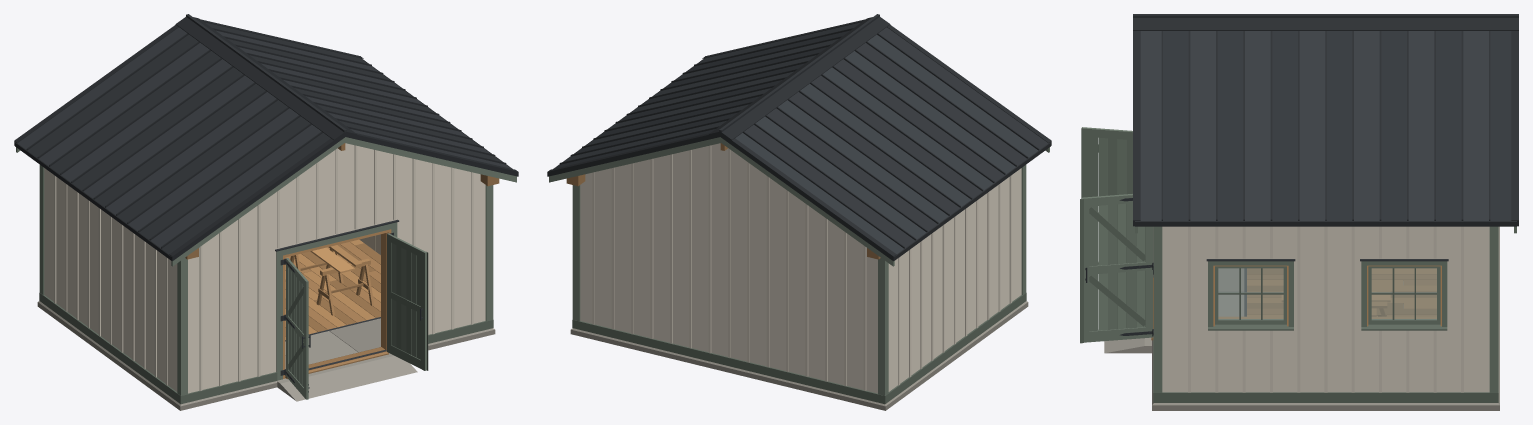
The model's file is workshop.glb.
3 views of the same model, side by side, from view 1: azimuth 30°, elevation 25°; view 2: azimuth 150°, elevation 25°; view 3: azimuth 270°, elevation 25° (orthographic). The views are drawn at different scales.
Parts seen in each view (by area): view 1: Roof_MetalSkin, Wall_Front, Wall_Left, Cladding_Battens, Plinth_Foundation, Door_Leaf_R, Floor_Planks, Roof_VergeTrim, Roof_RidgeCap, Trim_CornerBoards, Trim_BaseBoard, Door_Leaf_L (+6 smaller); view 2: Roof_MetalSkin, Wall_Back, Wall_Left, Cladding_Battens, Trim_BaseBoard, Roof_VergeTrim, Roof_RidgeCap, Trim_CornerBoards, Plinth_Foundation, Roof_BargeBoards, Roof_EaveDripEdge; view 3: Roof_MetalSkin, Wall_Right, Door_Leaf_R, Roof_RidgeCap, Window_2, Window_1, Cladding_Battens, Floor_Planks, Trim_BaseBoard, Plinth_Foundation, Door_Leaf_L, Trim_CornerBoards (+3 smaller).
Part boxes in pixels (x1=…): Roof_MetalSkin: x1=17, y1=22, x2=511, y2=254; Wall_Front: x1=188, y1=143, x2=485, y2=393; Wall_Left: x1=44, y1=168, x2=177, y2=391; Cladding_Battens: x1=54, y1=145, x2=473, y2=390; Plinth_Foundation: x1=37, y1=301, x2=495, y2=410; Door_Leaf_R: x1=387, y1=233, x2=428, y2=370; Floor_Planks: x1=285, y1=239, x2=380, y2=339; Roof_VergeTrim: x1=14, y1=19, x2=518, y2=261; Roof_RidgeCap: x1=175, y1=14, x2=357, y2=140; Trim_CornerBoards: x1=39, y1=165, x2=493, y2=395; Trim_BaseBoard: x1=39, y1=292, x2=493, y2=404; Door_Leaf_L: x1=284, y1=258, x2=310, y2=399; Roof_MetalSkin: x1=554, y1=22, x2=1048, y2=254; Wall_Back: x1=580, y1=143, x2=877, y2=393; Wall_Left: x1=888, y1=168, x2=1021, y2=391; Cladding_Battens: x1=592, y1=145, x2=1011, y2=390; Trim_BaseBoard: x1=572, y1=292, x2=1026, y2=404; Roof_VergeTrim: x1=547, y1=19, x2=1051, y2=261; Roof_RidgeCap: x1=708, y1=14, x2=890, y2=140; Trim_CornerBoards: x1=572, y1=165, x2=1026, y2=395; Plinth_Foundation: x1=570, y1=301, x2=1028, y2=410; Roof_BargeBoards: x1=549, y1=137, x2=1049, y2=266; Roof_EaveDripEdge: x1=553, y1=58, x2=1050, y2=260; Roof_MetalSkin: x1=1140, y1=31, x2=1511, y2=220; Wall_Right: x1=1162, y1=226, x2=1489, y2=392; Door_Leaf_R: x1=1080, y1=194, x2=1153, y2=343; Roof_RidgeCap: x1=1133, y1=14, x2=1518, y2=30; Window_2: x1=1360, y1=259, x2=1448, y2=330; Window_1: x1=1206, y1=259, x2=1295, y2=330; Cladding_Battens: x1=1188, y1=226, x2=1463, y2=392; Floor_Planks: x1=1247, y1=268, x2=1436, y2=316; Trim_BaseBoard: x1=1153, y1=227, x2=1498, y2=402; Plinth_Foundation: x1=1104, y1=226, x2=1499, y2=410; Door_Leaf_L: x1=1081, y1=127, x2=1153, y2=274; Trim_CornerBoards: x1=1153, y1=226, x2=1498, y2=392.
Size of the model in its own units: 7.15 by 4.9 by 6.44.
